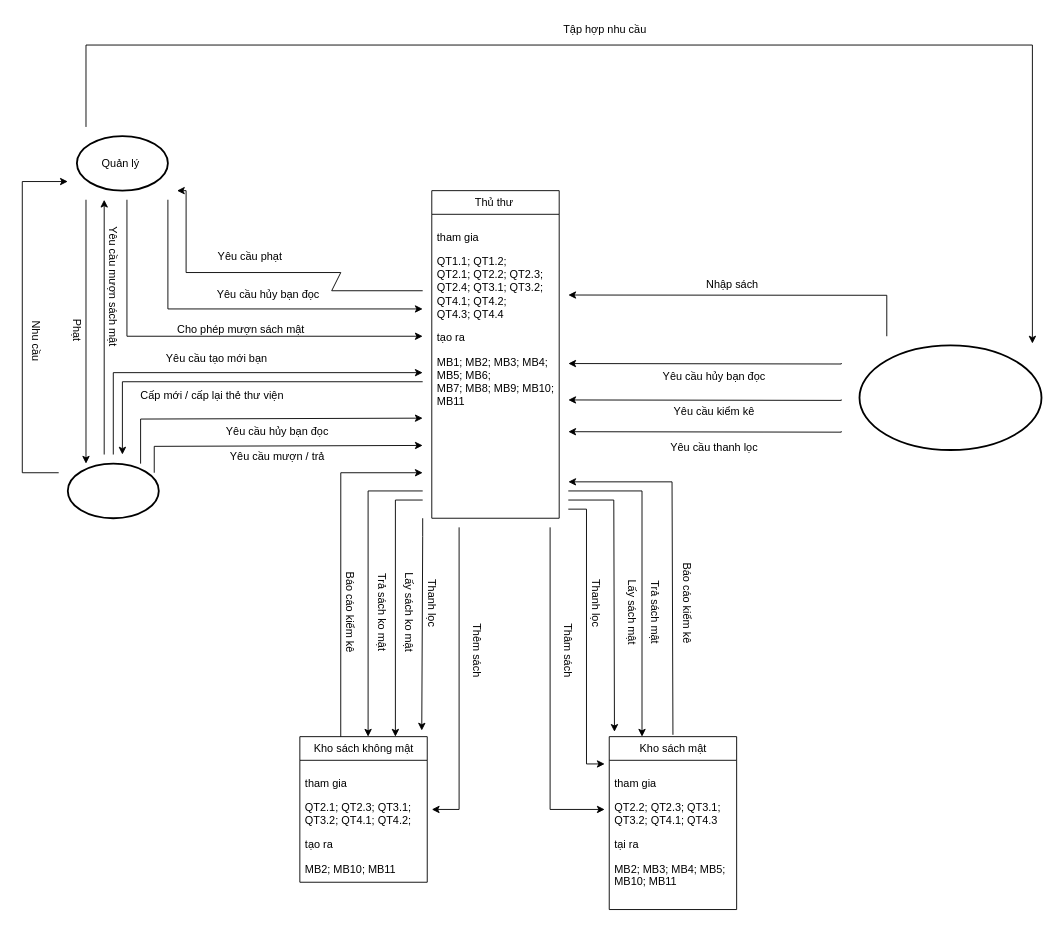
This 1058x927 diagram has some shape labels left out. Here are the shapes that lost their labels. From the top down, the centre of each, then its label:
At [950,397]: "Thư viện".
At [112,490]: "Bạn đọc".
